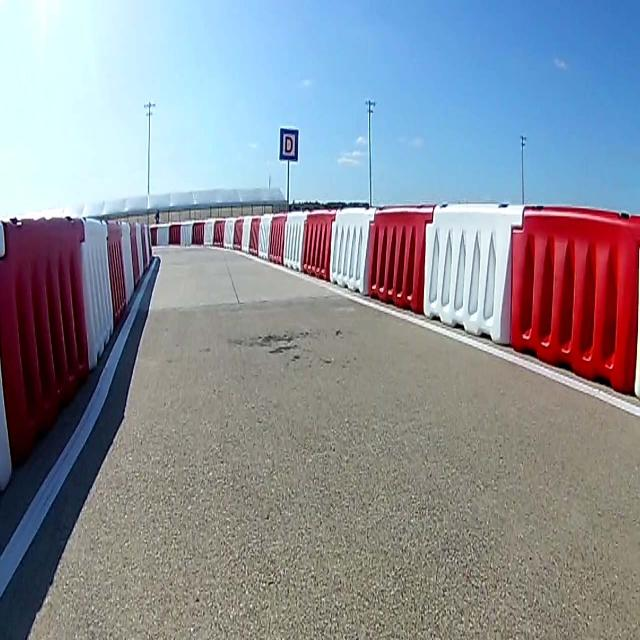durak: (280, 127, 298, 162)
